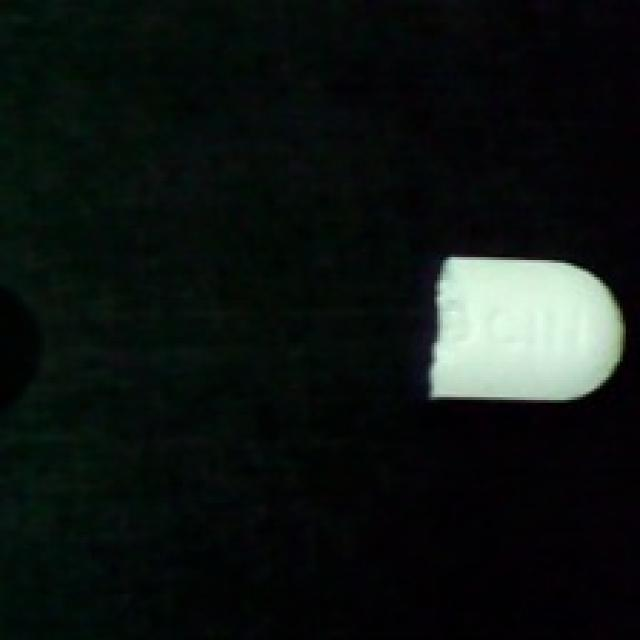defected: (426, 254, 626, 406)
